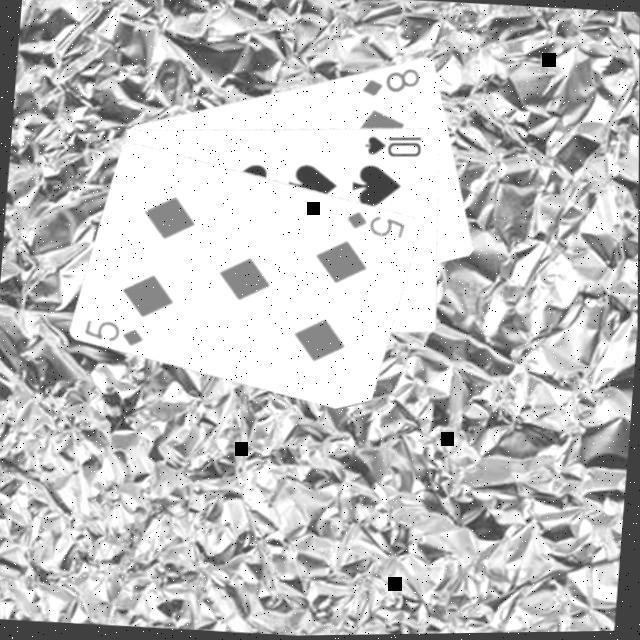10S: (363, 132, 428, 165)
5D: (82, 316, 150, 352), (344, 208, 410, 245)
8D: (360, 64, 425, 105)
